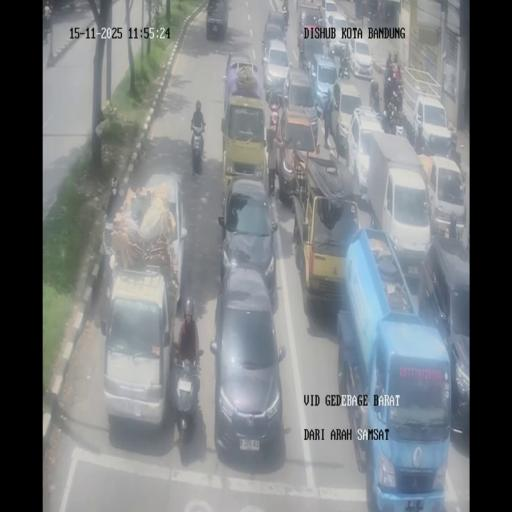3: (293, 152, 364, 316), (363, 133, 430, 273)
car: (210, 270, 284, 466), (102, 266, 174, 433), (417, 234, 469, 438), (218, 178, 278, 296), (137, 173, 188, 302), (274, 104, 319, 200), (425, 155, 466, 239), (223, 51, 260, 124), (333, 80, 364, 154), (309, 53, 338, 116), (261, 40, 291, 100), (284, 66, 315, 118), (347, 37, 374, 78), (299, 13, 322, 54), (206, 0, 228, 40), (324, 4, 348, 36), (330, 34, 350, 57)
truck: (98, 176, 128, 278), (170, 348, 203, 432), (189, 120, 206, 174), (381, 104, 402, 136), (401, 112, 416, 147), (267, 86, 281, 117), (392, 68, 404, 104), (366, 0, 383, 22), (447, 144, 462, 168), (415, 123, 426, 153), (300, 47, 311, 74), (369, 88, 381, 112), (42, 13, 52, 41), (338, 57, 350, 79), (315, 97, 324, 120), (296, 17, 302, 48), (283, 9, 290, 33), (261, 36, 267, 64), (360, 0, 367, 22), (386, 50, 392, 70), (300, 9, 306, 28)
